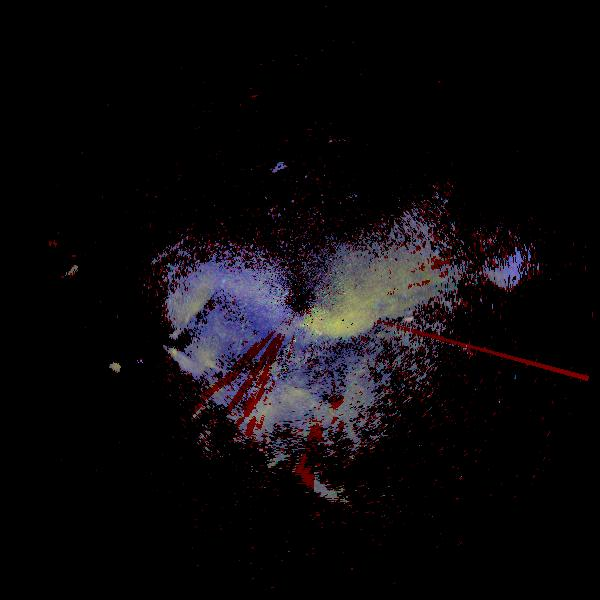roost: (149, 342, 188, 381), (97, 358, 127, 388)
